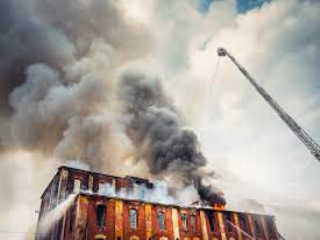smoke: (12, 10, 129, 175), (116, 74, 222, 199)
